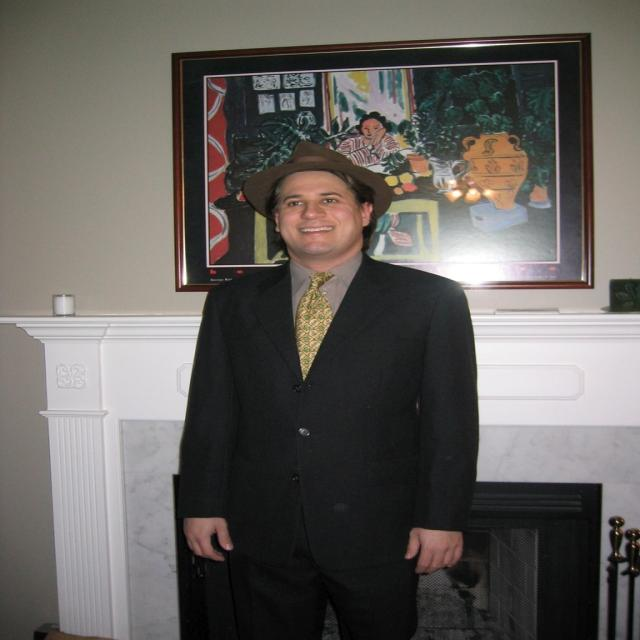Hat: (239, 141, 388, 227)
